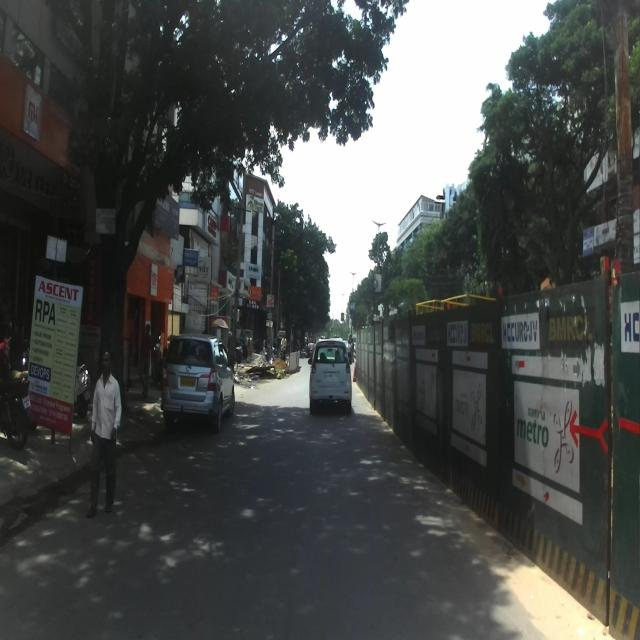Car_Maruti-Suzuki: (307, 339, 352, 414)
Car_Toyota: (160, 332, 234, 436)
scooter: (19, 339, 91, 418)
